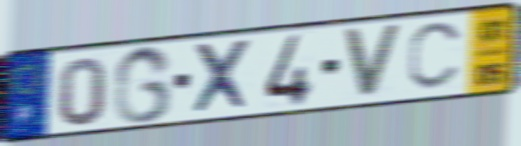0: (54, 52, 110, 129)
4: (262, 30, 314, 109)
C: (405, 18, 467, 94)
G: (111, 43, 175, 127)
V: (340, 23, 404, 101)
X: (190, 36, 254, 118)
